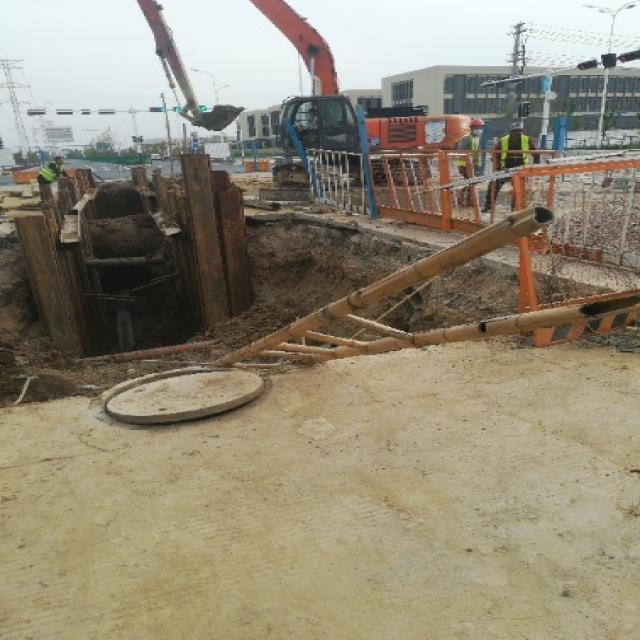Faulty: (72, 354, 294, 432)
